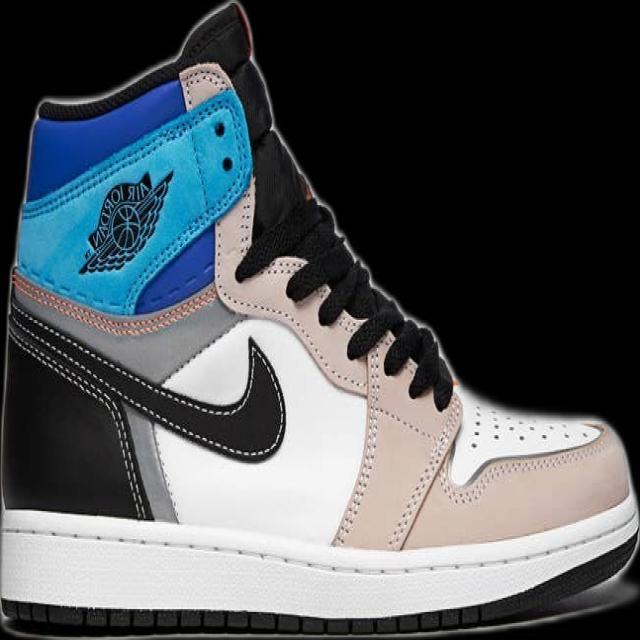J1_InsoleChar: (0, 1, 637, 637)
J1_ShoeLogo: (14, 64, 255, 330), (76, 168, 174, 275)
J1_ShoeShape: (18, 0, 459, 410)
J1_StitchPattern: (5, 277, 610, 552), (230, 175, 456, 410), (5, 296, 286, 462), (2, 514, 637, 580), (382, 400, 605, 551), (330, 328, 461, 550), (2, 599, 484, 635), (8, 268, 219, 338), (444, 401, 606, 490), (383, 391, 463, 552), (330, 329, 387, 548), (437, 436, 610, 506), (463, 403, 601, 454), (176, 60, 234, 112)
